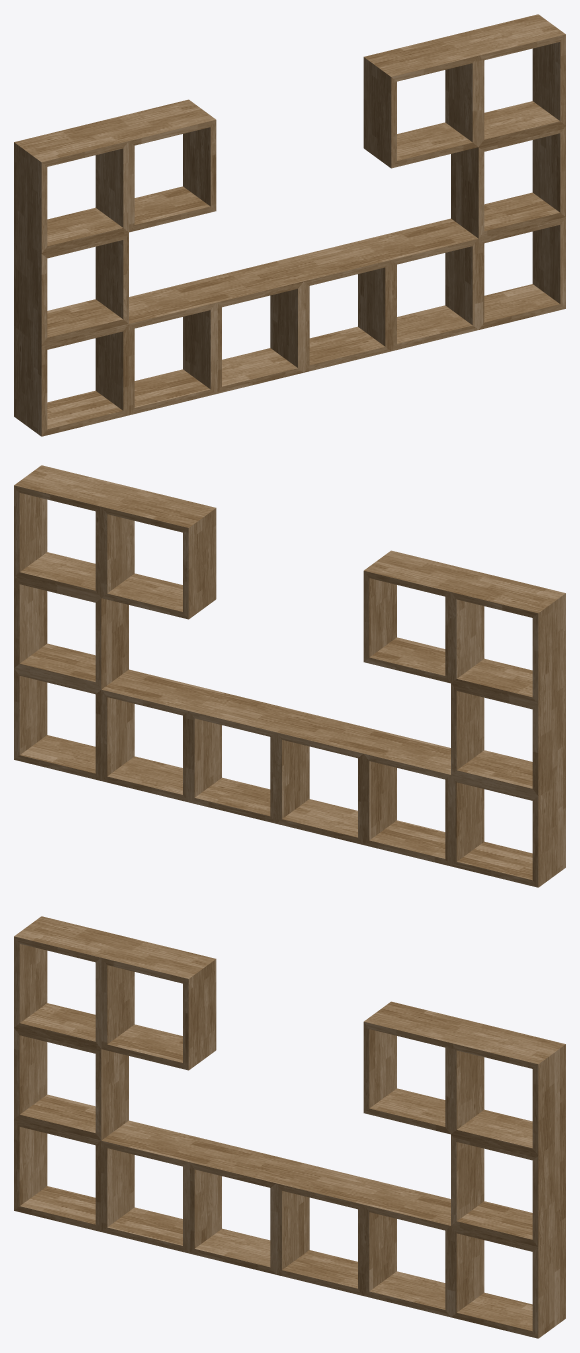
The model's file is shelf_013.fbx.
The picture shows the model from 3 angles, top to bottom: view 1: azimuth 30°, elevation 25°; view 2: azimuth 150°, elevation 25°; view 3: azimuth 330°, elevation 25°; orthographic projection.
Visible parts, largest first — view 1: shelf_013; view 2: shelf_013; view 3: shelf_013.
Part boxes in pixels (x1=…): shelf_013: x1=14, y1=14, x2=565, y2=436; shelf_013: x1=14, y1=465, x2=565, y2=887; shelf_013: x1=14, y1=916, x2=565, y2=1338.
Bounding box in the file's own units: 286 × 26.01 × 143.
